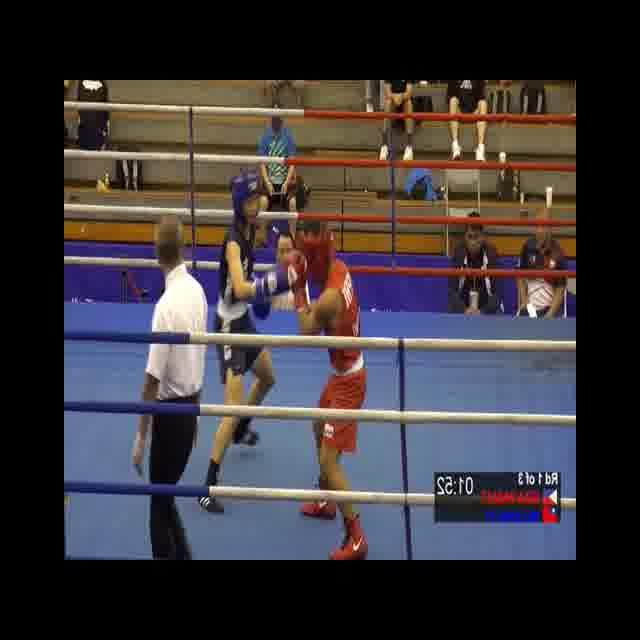blue-player: (193, 168, 294, 518)
red-player: (286, 214, 373, 559)
referee: (132, 211, 209, 559)
